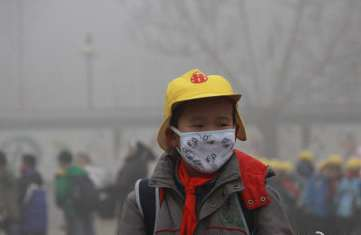face_mask: (179, 112, 236, 173)
